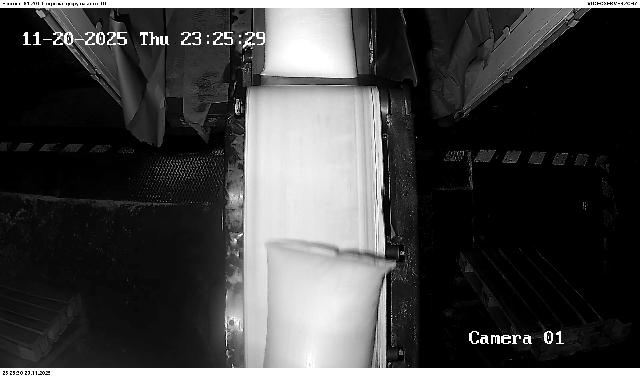bag: (263, 238, 396, 367), (260, 8, 357, 79)
